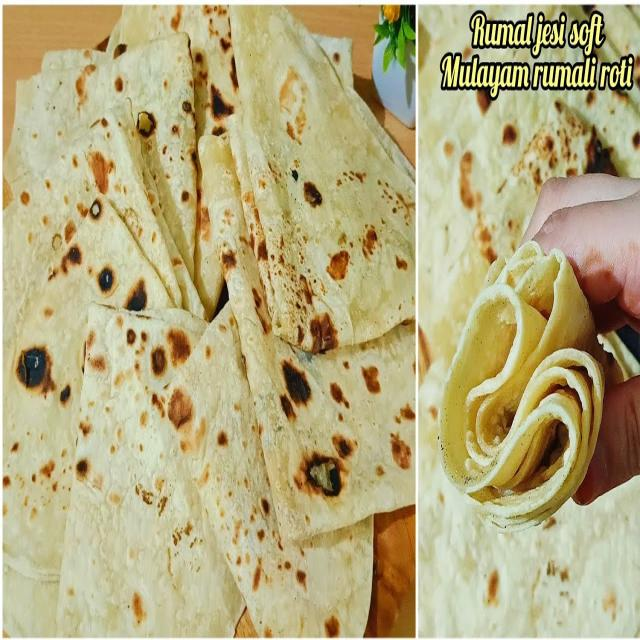ROTI: (196, 132, 414, 536), (0, 154, 172, 639), (152, 296, 372, 639), (226, 1, 415, 347), (54, 301, 248, 638), (2, 40, 196, 260)
